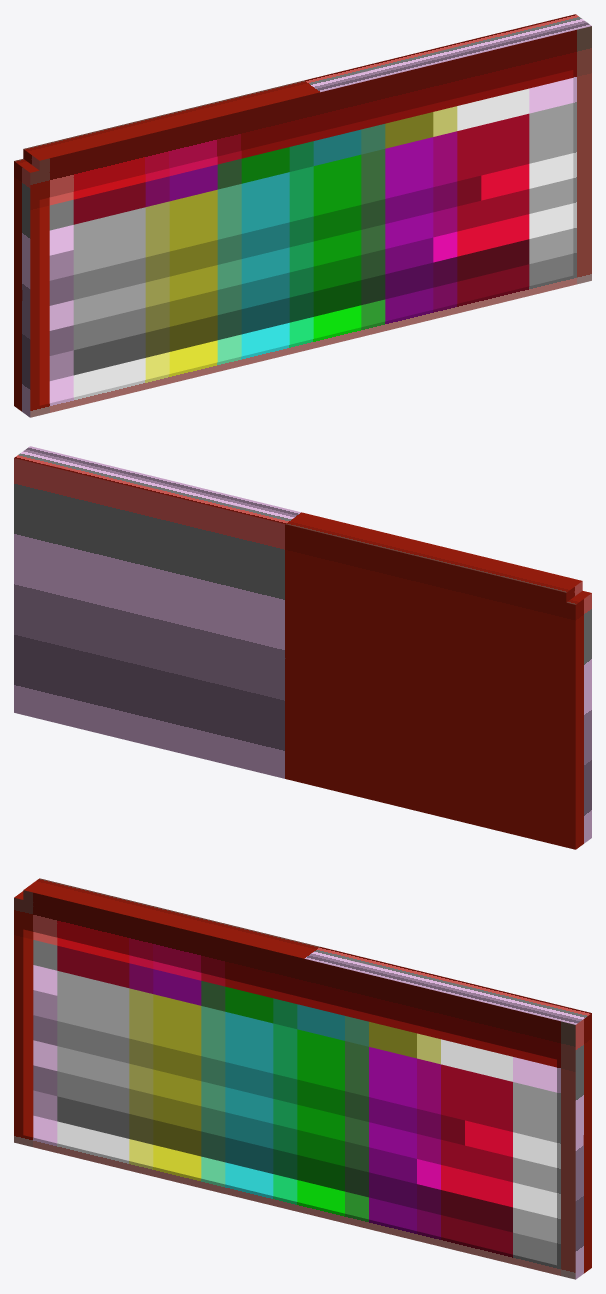
File: bar_sign_empbarsign.glb
3 renders of one model, top to bottom at view 1: azimuth 30°, elevation 25°; view 2: azimuth 150°, elevation 25°; view 3: azimuth 330°, elevation 25°, orthographic.
Visible parts, largest first — view 1: Light_Overlay, Shaped_Bar_Sign_Housing; view 2: Shaped_Bar_Sign_Housing; view 3: Light_Overlay, Shaped_Bar_Sign_Housing.
Boxes of the visible parts, left/top/right/bottom form: Light_Overlay: left=39, top=70, right=573, bottom=405; Shaped_Bar_Sign_Housing: left=14, top=14, right=591, bottom=417; Shaped_Bar_Sign_Housing: left=14, top=446, right=591, bottom=849; Light_Overlay: left=23, top=929, right=556, bottom=1265; Shaped_Bar_Sign_Housing: left=14, top=878, right=591, bottom=1279.
Size of the model in its own units: 1.69 by 0.7313 by 0.0847.
2 materials, 2 textured.
